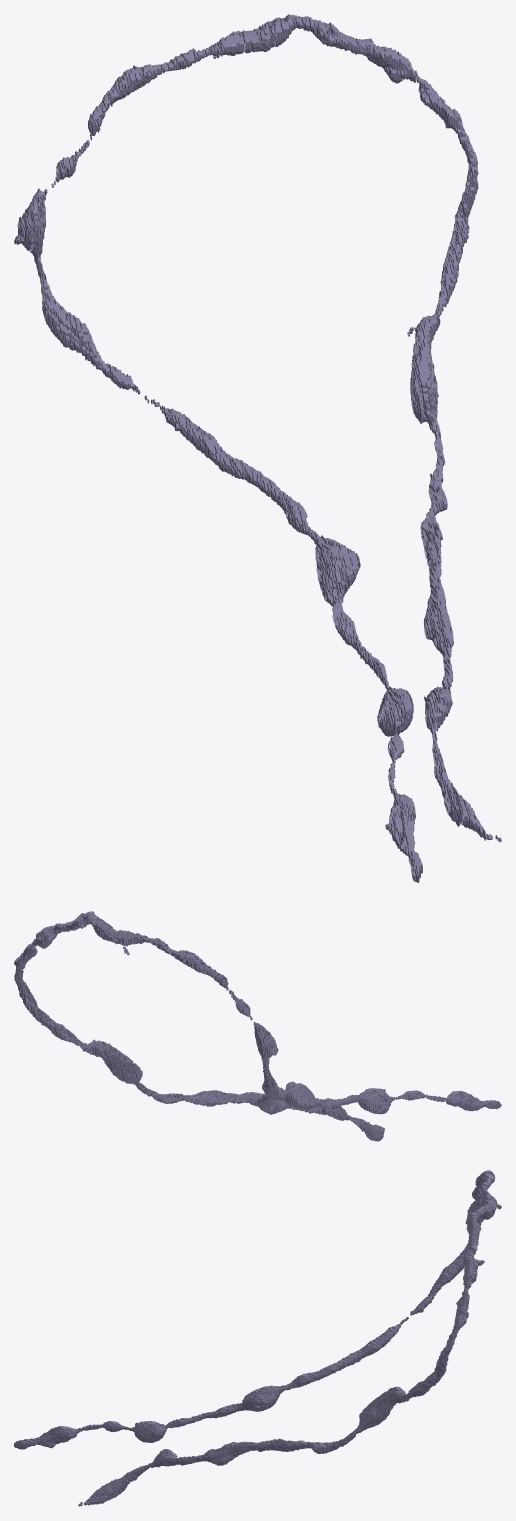
Rendered from SVV_AVBR.gltf.
3 views of the same model, one above another, from view 1: azimuth 30°, elevation 25°; view 2: azimuth 150°, elevation 25°; view 3: azimuth 270°, elevation 25° (orthographic). The views are drawn at different scales.
Visible parts, largest first — view 1: AVBR; view 2: AVBR; view 3: AVBR.
Part boxes in pixels (x1,y1,x2,y2): AVBR: (14,14,501,882); AVBR: (14,911,501,1141); AVBR: (14,1170,501,1506).
Bounding box in the file's own units: 129022 × 155624 × 203945.
